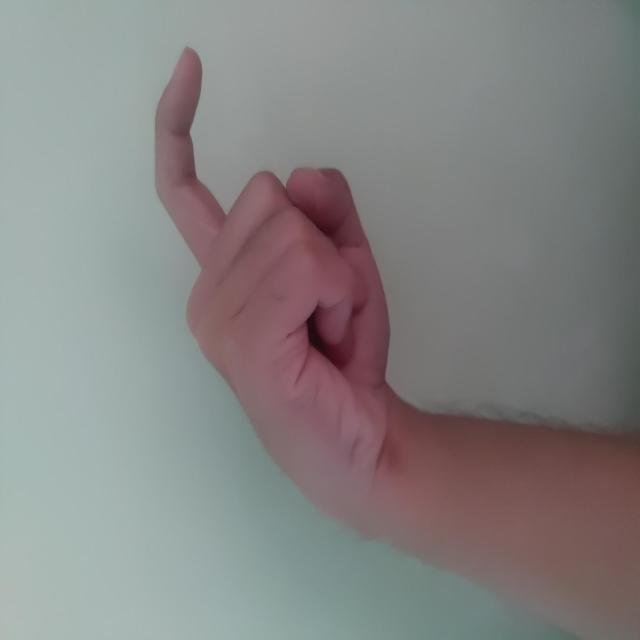X: (150, 152, 595, 394)
